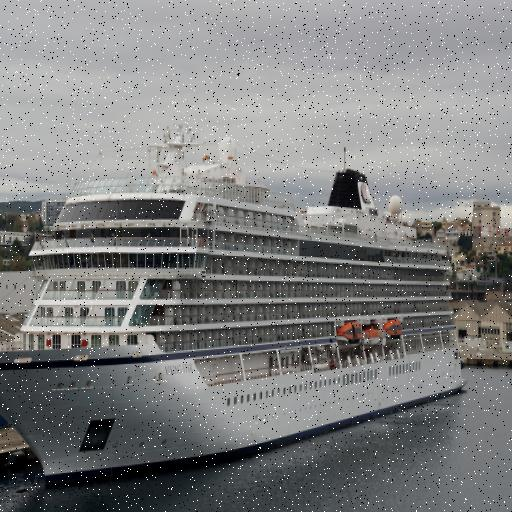cruises: (1, 126, 470, 493)
